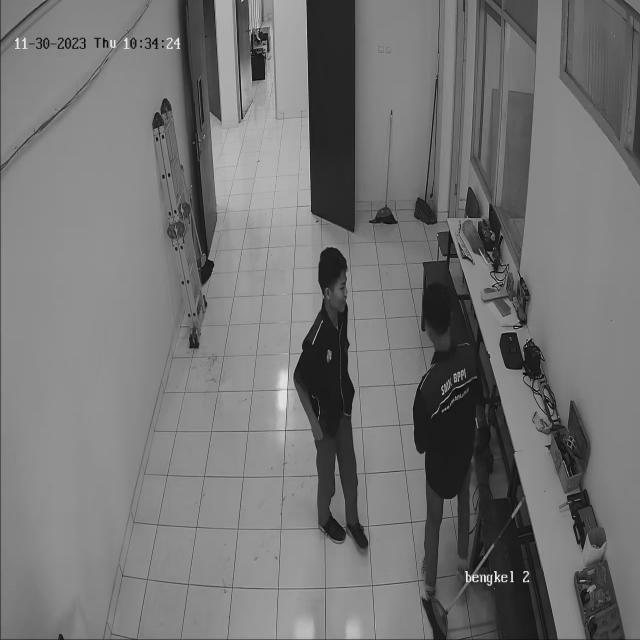person: (290, 232, 370, 566)
